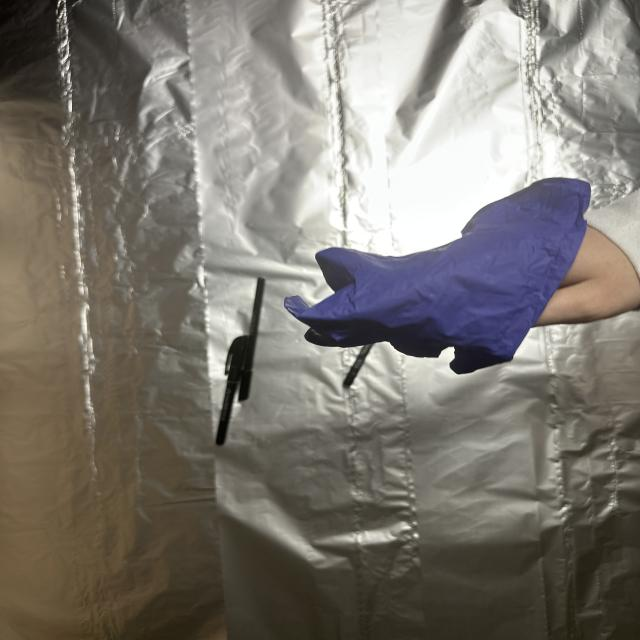glove_not_fitted: (278, 173, 640, 381)
